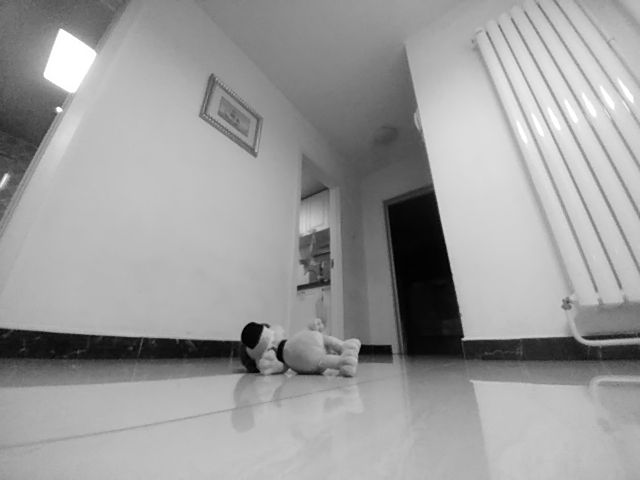toy: (238, 319, 363, 378)
